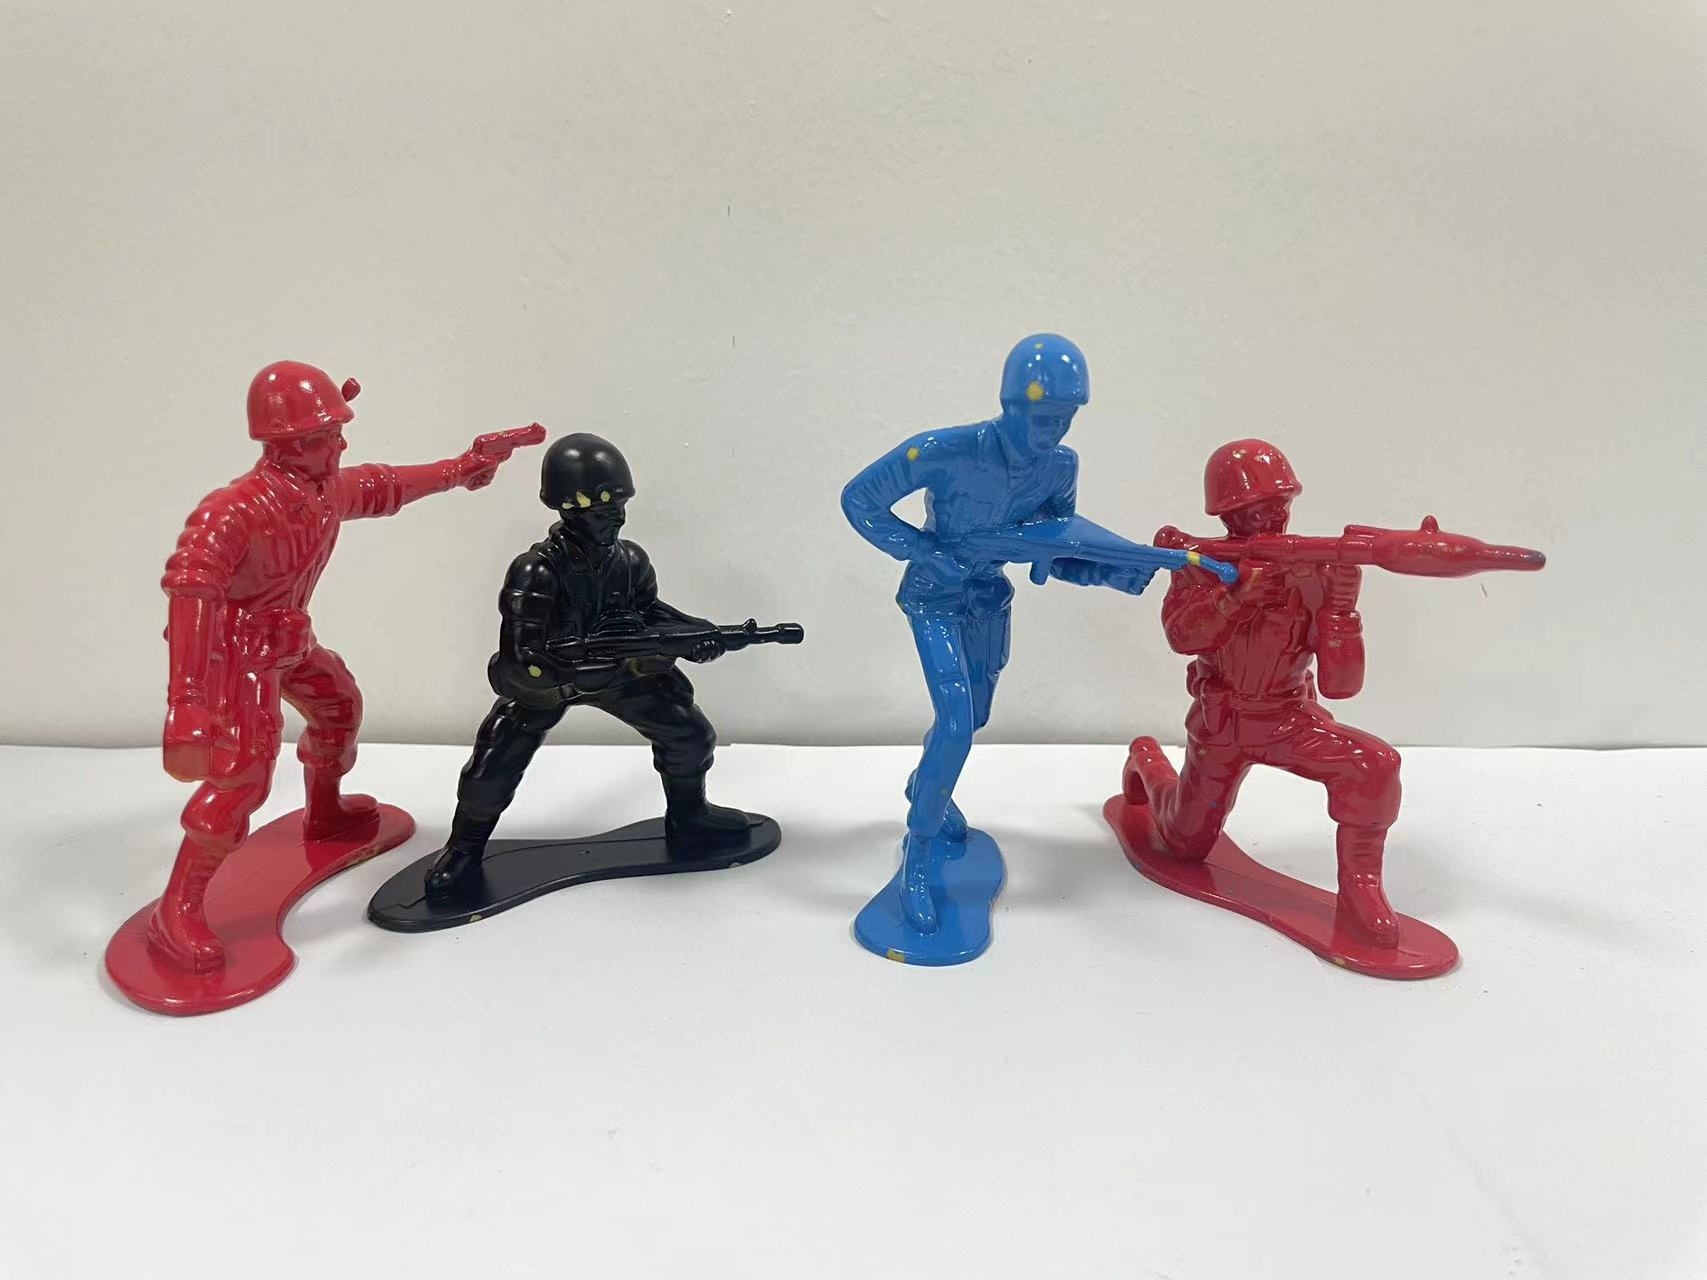black: (472, 367, 817, 965)
blue: (808, 262, 1218, 1074)
red: (109, 298, 460, 1074), (1137, 411, 1595, 994)
